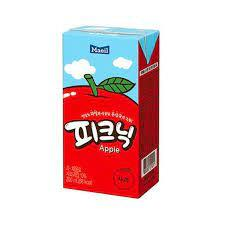picnic_apple: (60, 23, 157, 198)
